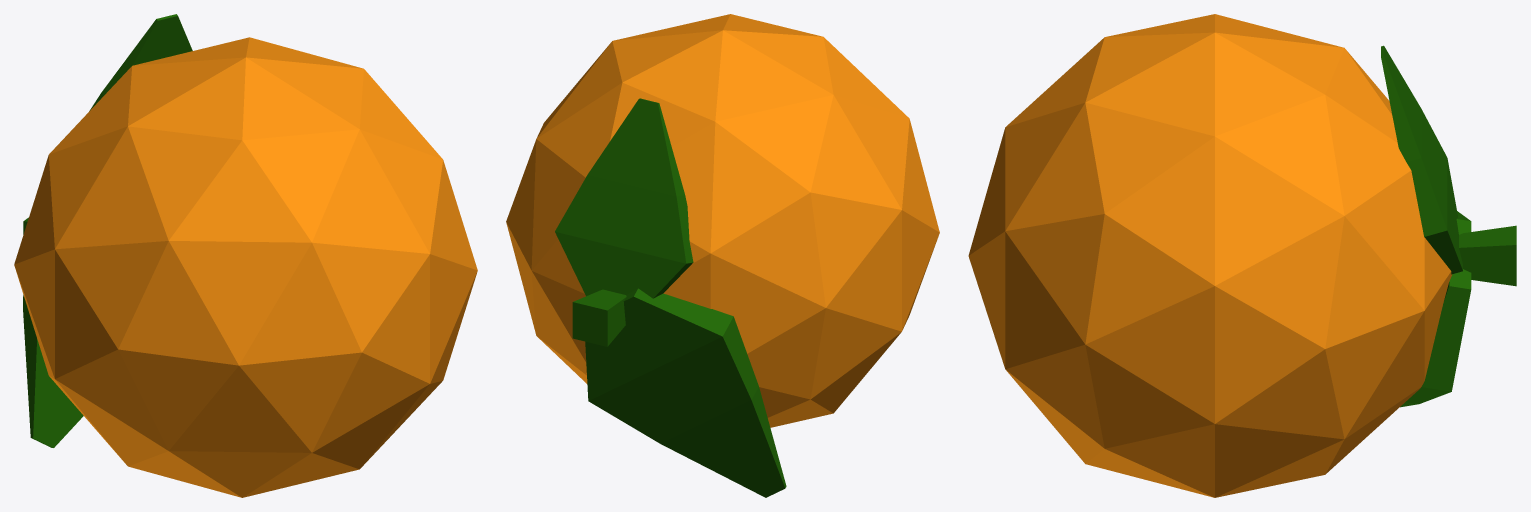
The model's file is orange.fbx.
3 renders of one model, left to right at view 1: azimuth 30°, elevation 25°; view 2: azimuth 150°, elevation 25°; view 3: azimuth 270°, elevation 25°, orthographic. The views are drawn at different scales.
Visible parts, largest first — view 1: orange; view 2: orange; view 3: orange.
Part boxes in pixels (bbox=[...]): orange: bbox=[14, 14, 477, 497]; orange: bbox=[506, 14, 939, 497]; orange: bbox=[968, 14, 1516, 497].
Size of the model in its own units: 77.56 by 81.55 by 90.65.
